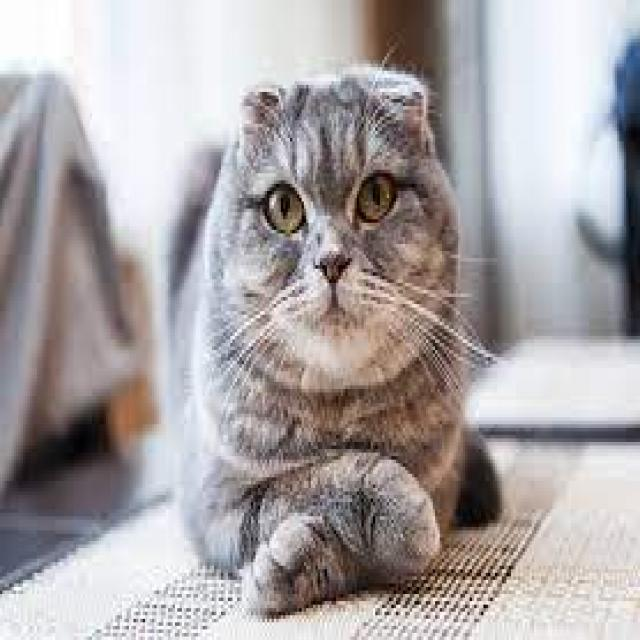cat-face: (190, 28, 462, 399)
